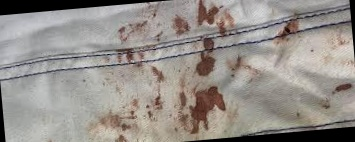blood: (185, 86, 226, 134), (193, 39, 219, 77), (149, 67, 171, 110), (100, 113, 139, 134), (117, 21, 147, 43), (196, 1, 221, 25), (274, 22, 300, 44), (117, 50, 143, 70), (174, 17, 190, 34), (334, 82, 352, 94)
